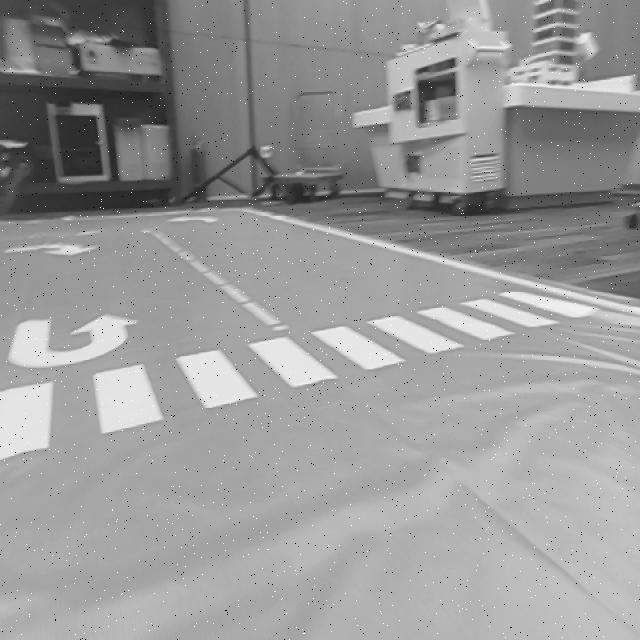left_lane: (157, 230, 288, 334)
right_lane: (259, 212, 640, 317)
